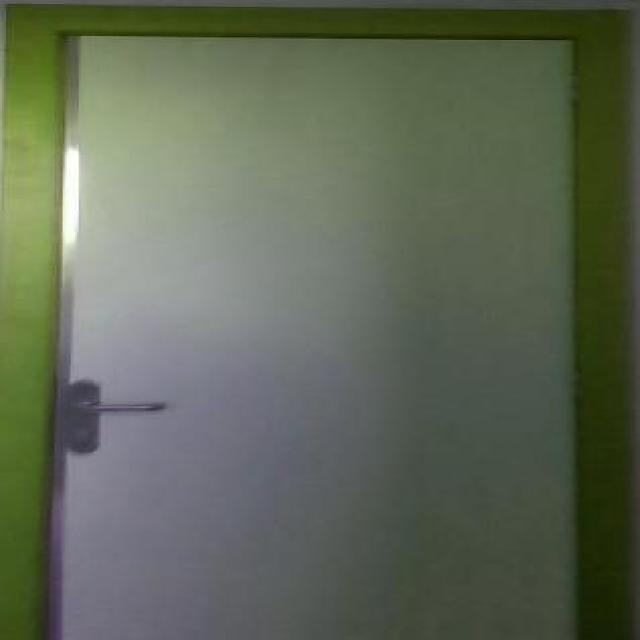door_handle: (71, 399, 172, 417)
